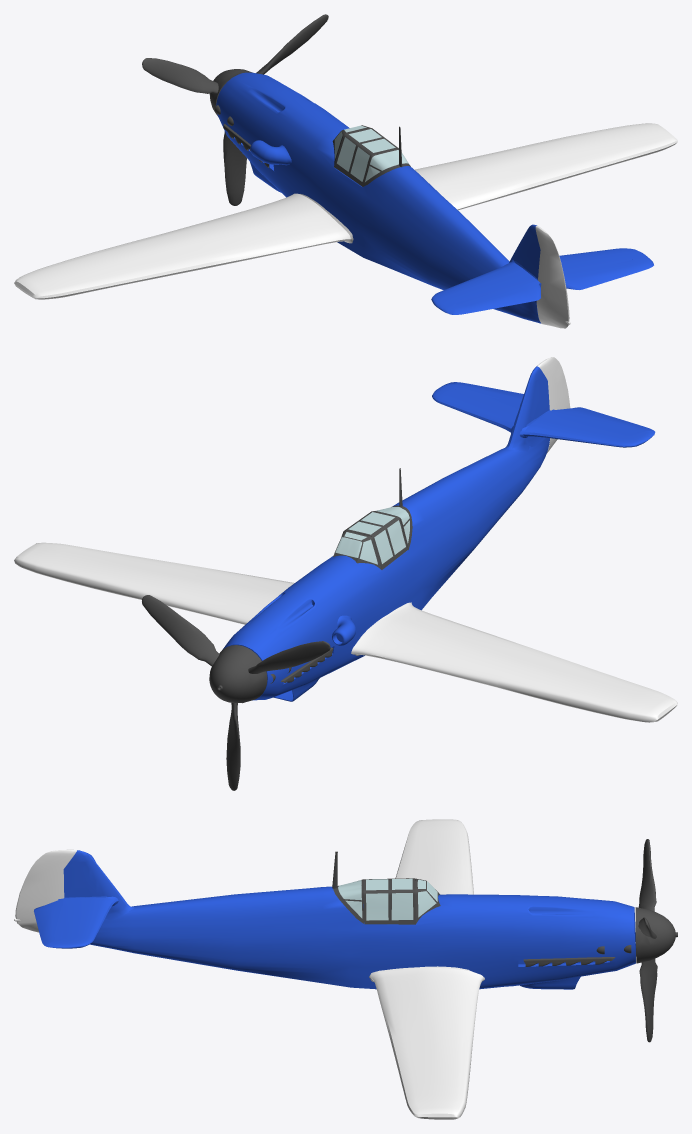
3 renders of one model, top to bottom at view 1: azimuth 30°, elevation 25°; view 2: azimuth 150°, elevation 25°; view 3: azimuth 270°, elevation 25°, orthographic. The views are drawn at different scales.
Parts seen in each view (by area): view 1: Body, Wings, Propeller, TailBack, Glass, Glass_2, Frame, MainFrame_Panel; view 2: Body, Wings, Propeller, PropellerBody, Glass, Glass_2, TailBack, MainFrame_Panel, Frame; view 3: Body, Wings, TailBack, Propeller, Glass, PropellerBody, Glass_2, Frame, MainFrame_Panel, Tubes.
Part boxes in pixels (<box>): Body: <box>216,72,653,323</box>; Wings: <box>14,123,677,299</box>; Propeller: <box>142,14,328,205</box>; TailBack: <box>535,225,570,328</box>; Glass: <box>337,129,395,181</box>; Glass_2: <box>334,125,408,181</box>; Frame: <box>334,128,398,186</box>; MainFrame_Panel: <box>332,125,410,186</box>; Body: <box>222,366,655,701</box>; Wings: <box>14,542,677,722</box>; Propeller: <box>142,595,330,790</box>; PropellerBody: <box>209,645,267,703</box>; Glass: <box>348,512,405,563</box>; Glass_2: <box>335,507,409,564</box>; TailBack: <box>537,357,570,452</box>; MainFrame_Panel: <box>333,468,412,569</box>; Frame: <box>342,511,408,569</box>; Body: <box>34,850,635,989</box>; Wings: <box>369,819,484,1119</box>; TailBack: <box>14,849,76,932</box>; Propeller: <box>638,839,657,1042</box>; Glass: <box>366,878,413,920</box>; PropellerBody: <box>635,907,677,963</box>; Glass_2: <box>338,879,437,918</box>; Frame: <box>363,878,415,924</box>; MainFrame_Panel: <box>332,851,440,923</box>; Tubes: <box>523,945,631,966</box>.
Bounding box in the file's own units: 932 × 280 × 880.
